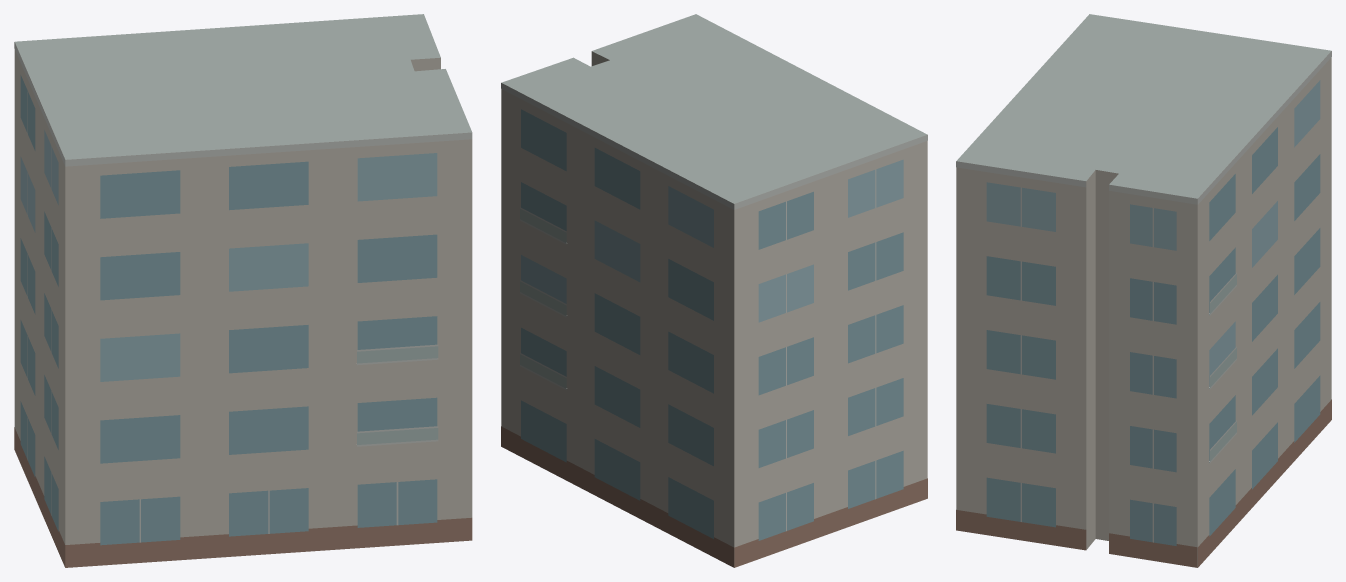
The model's file is survey-upis-32877234.glb.
3 views of the same model, side by side, from view 1: azimuth 30°, elevation 25°; view 2: azimuth 150°, elevation 25°; view 3: azimuth 270°, elevation 25° (orthographic). The views are drawn at different scales.
Visible parts, largest first — view 1: survey-upis-32877234.tmp; view 2: survey-upis-32877234.tmp; view 3: survey-upis-32877234.tmp.
Boxes of the visible parts, x1,y1,x2,y2 form: survey-upis-32877234.tmp: (14,14,472,567); survey-upis-32877234.tmp: (501,14,927,567); survey-upis-32877234.tmp: (956,14,1331,567).
Bounding box in the file's own units: 15.78 × 14.7 × 13.56.
